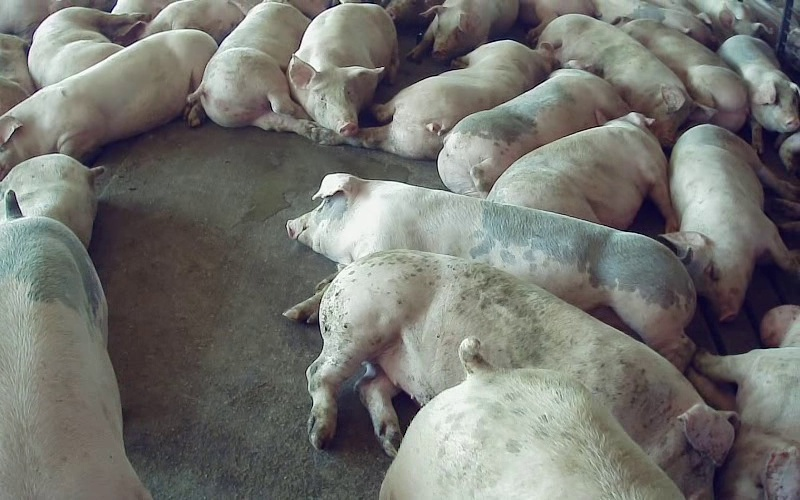pig: (287, 173, 695, 370), (380, 338, 683, 499), (0, 191, 150, 499), (0, 29, 216, 179), (664, 124, 797, 321), (438, 69, 629, 197), (356, 40, 551, 159), (487, 113, 677, 230), (688, 306, 799, 499), (538, 14, 692, 145), (189, 2, 313, 135), (288, 3, 398, 135), (621, 19, 748, 131), (718, 35, 799, 153), (28, 7, 146, 88), (407, 0, 518, 60)
